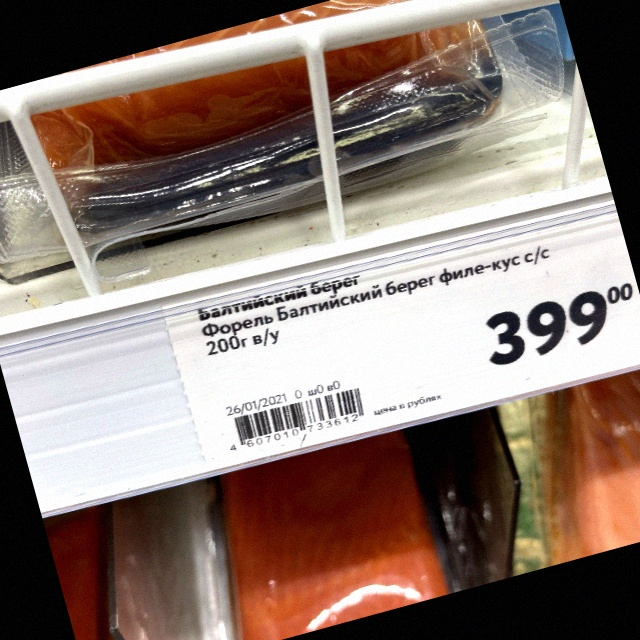barcode: (226, 385, 367, 456)
name: (198, 243, 556, 358)
price: (483, 281, 636, 368)
price_tag: (196, 208, 636, 466)
